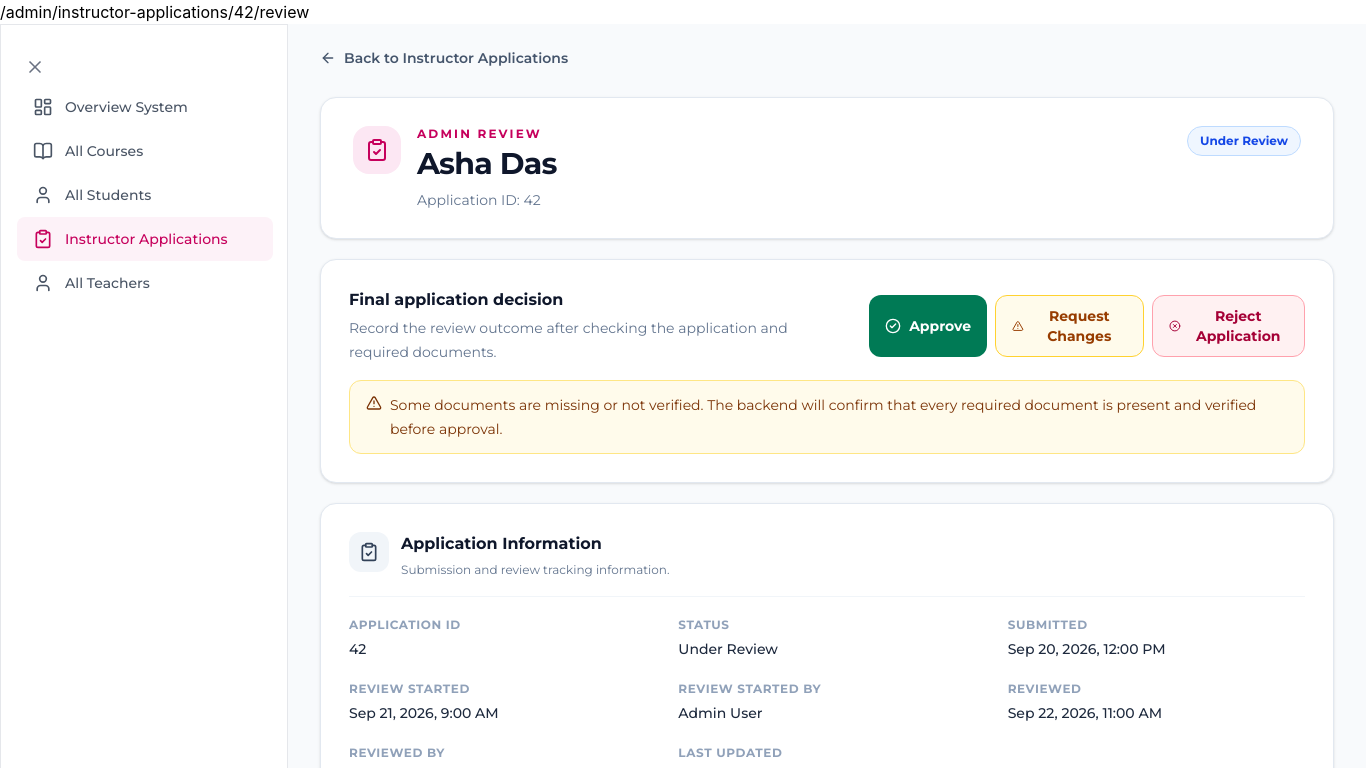
Test: Instructor application review detail › keeps decision controls visible and reports stale-state conflicts
Click the button "Approve" at (928,326), box x1=869 y1=295 x2=987 y2=357
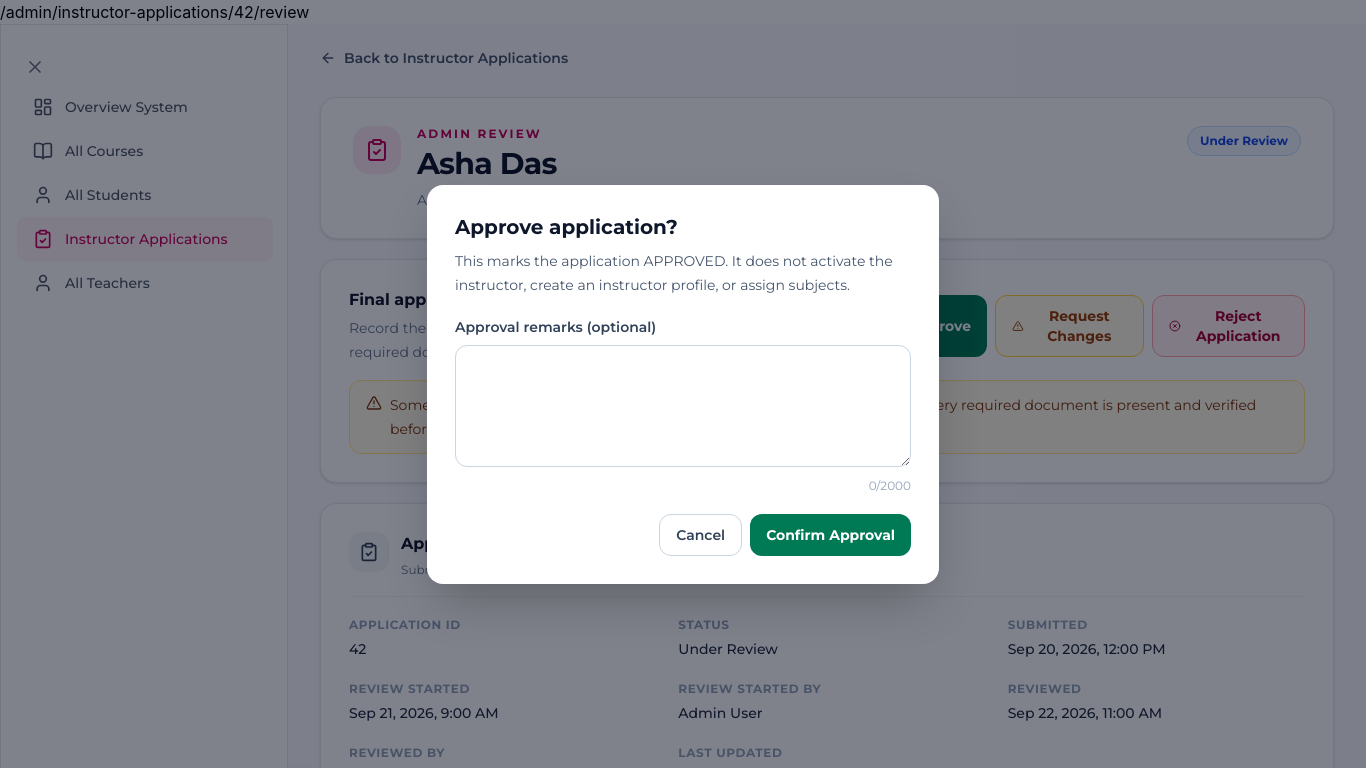
Click the button "Confirm Approval" at (831,534), box x1=750 y1=514 x2=911 y2=556
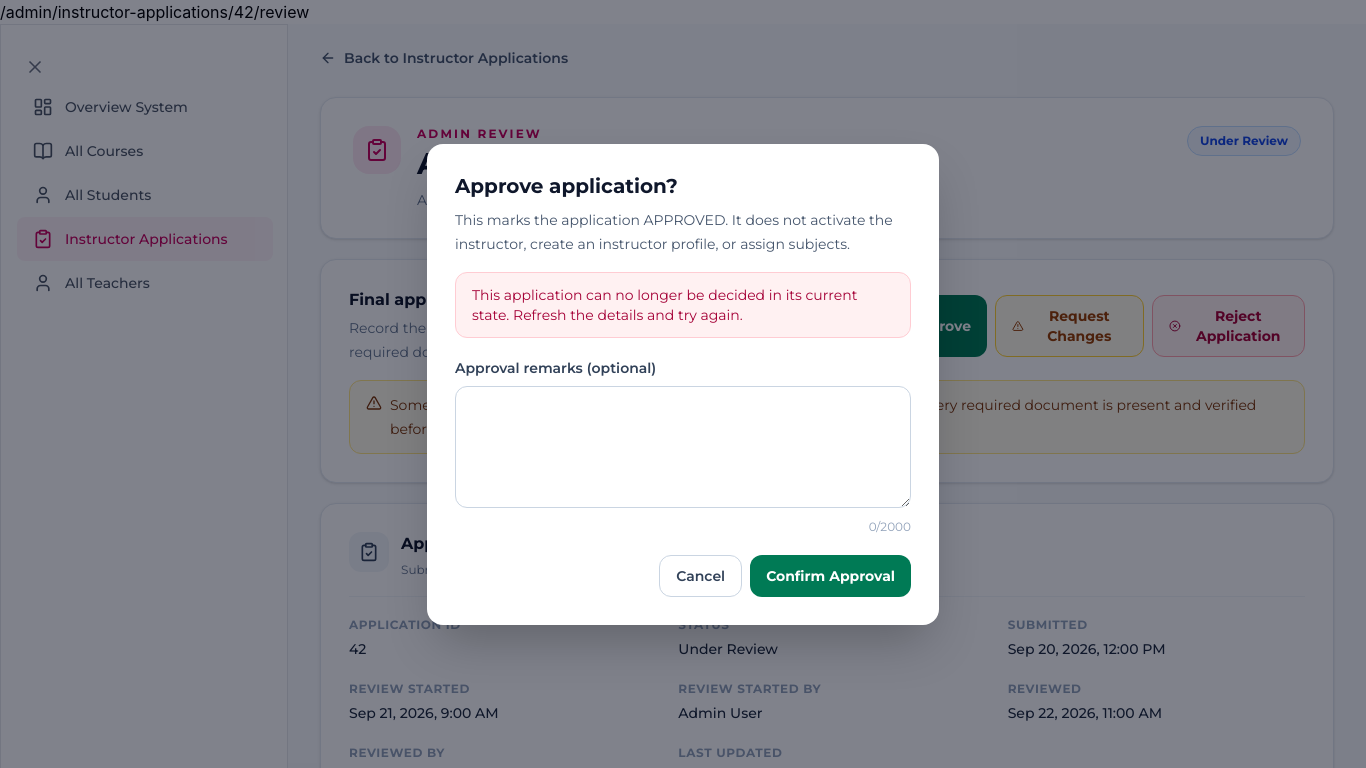
Expected: the dialog "Approve application?" is shown, x1=427 y1=144 x2=939 y2=624
Expected: the message shows "can no longer be decided", x1=472 y1=286 x2=857 y2=324
